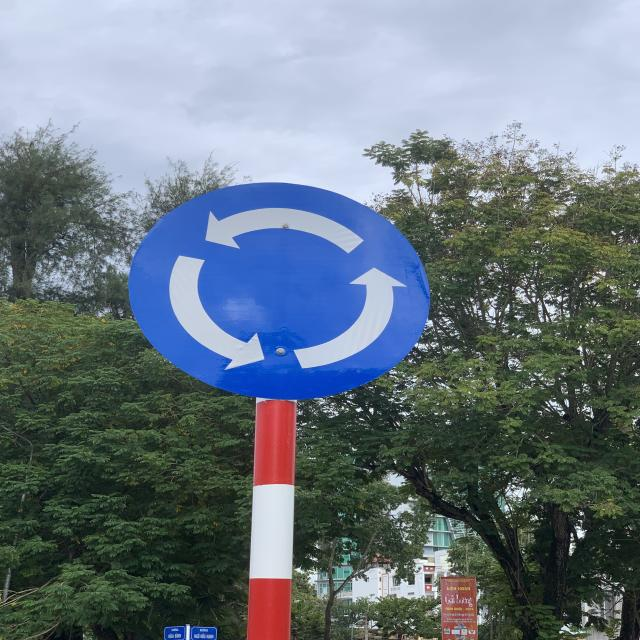Xe_Bus: (128, 181, 434, 402)
